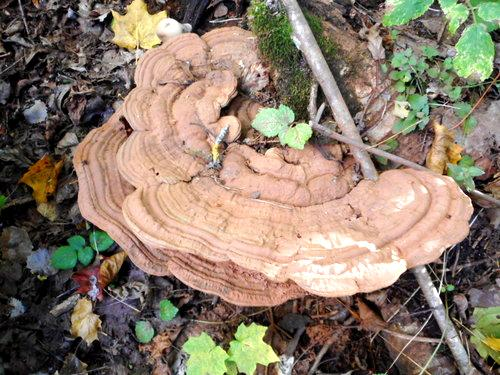Ganoderma - Fruit Body: (74, 29, 474, 312)
